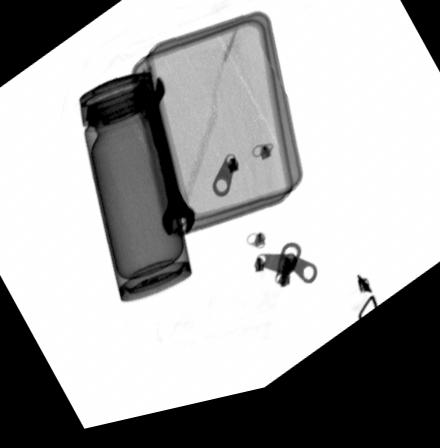Wrench: (129, 82, 195, 245)
